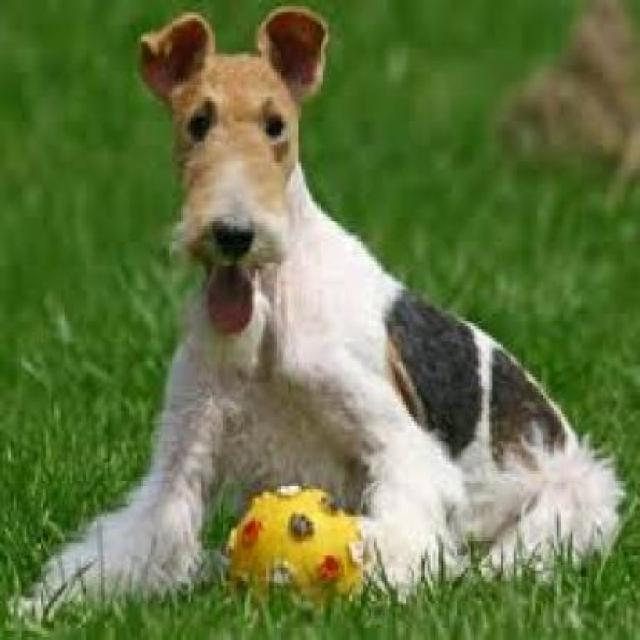animals: (32, 12, 626, 603)
